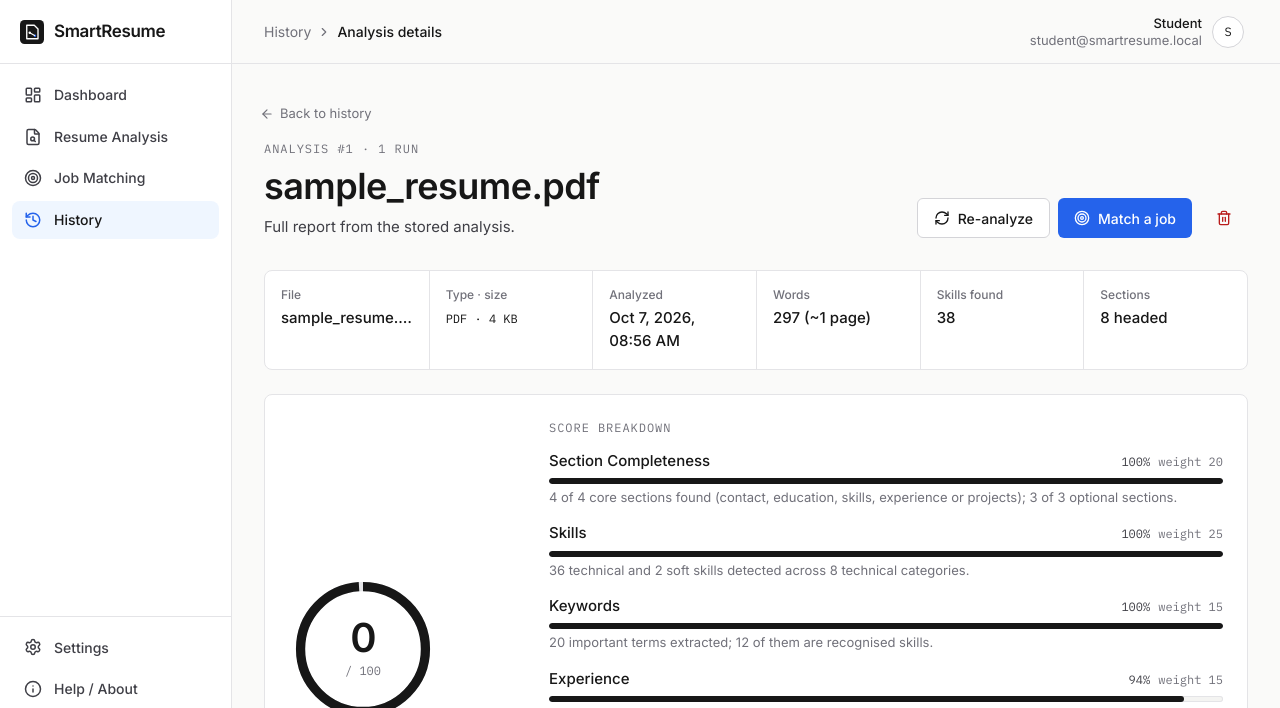
Test: Analysis details › deletes after confirmation and returns to history
The image size is (1280, 708).
Click the button named "delete this analysis" at [1224, 218], box [1200,198,1248,238]
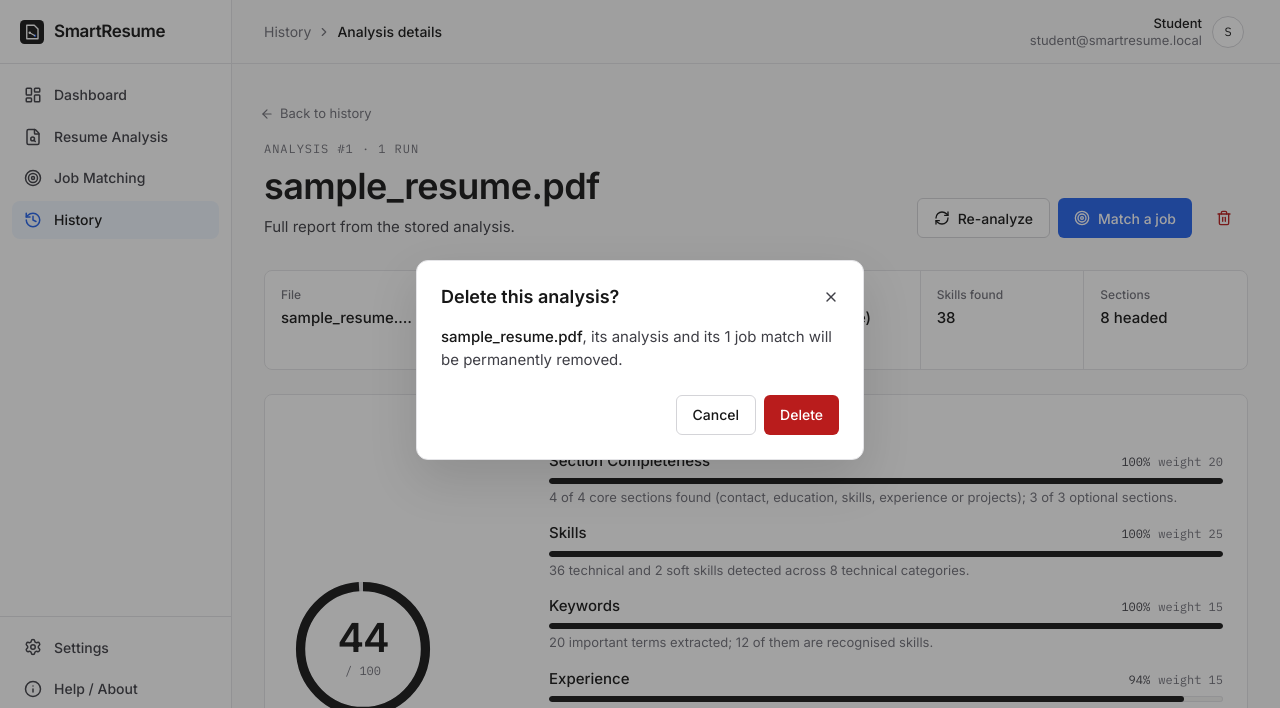
Expected: the dialog "Delete this analysis" shows "permanently removed", [441,327,832,369]
Click the button "Delete" at [802, 415], box [764,395,839,435]
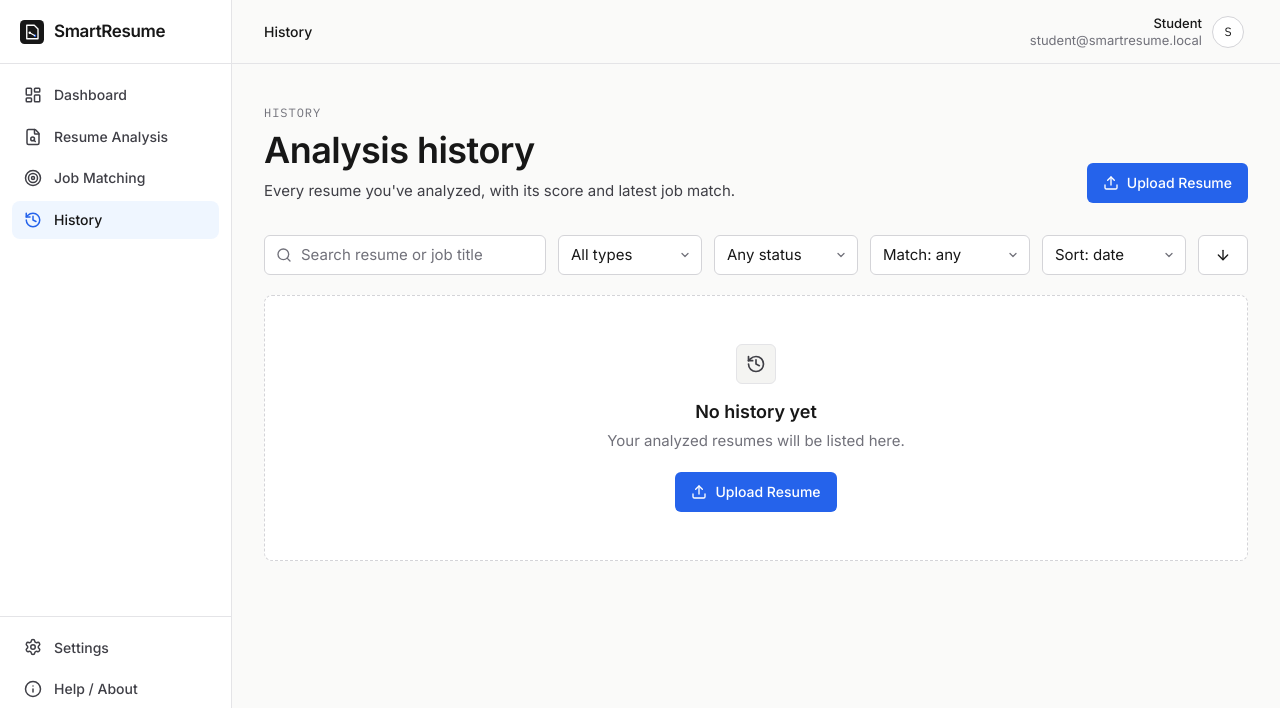
Expected: the heading "No history yet" is shown, [695,400,817,423]
